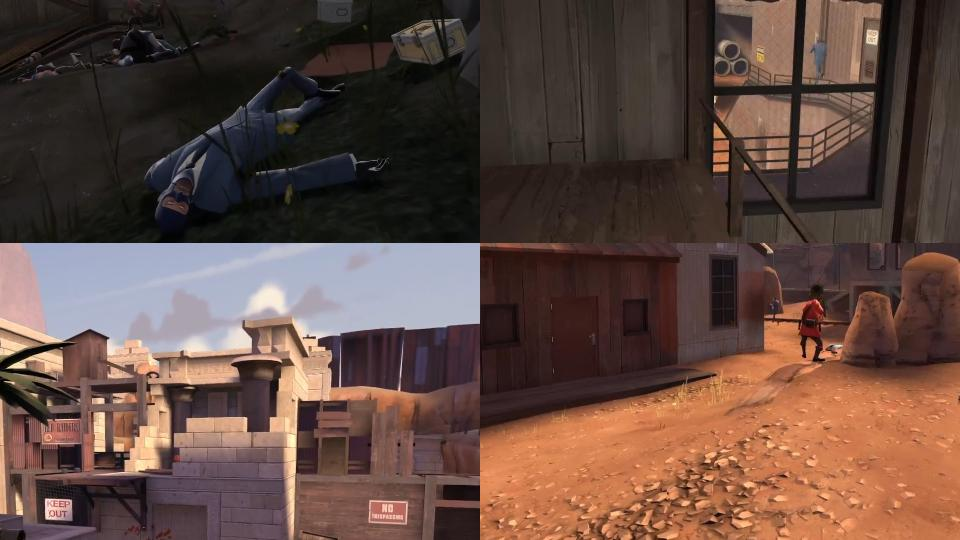Enemy: (144, 65, 390, 231), (112, 29, 201, 66), (794, 284, 832, 365), (809, 39, 828, 85), (122, 0, 147, 31), (768, 294, 784, 331), (147, 0, 164, 28)
